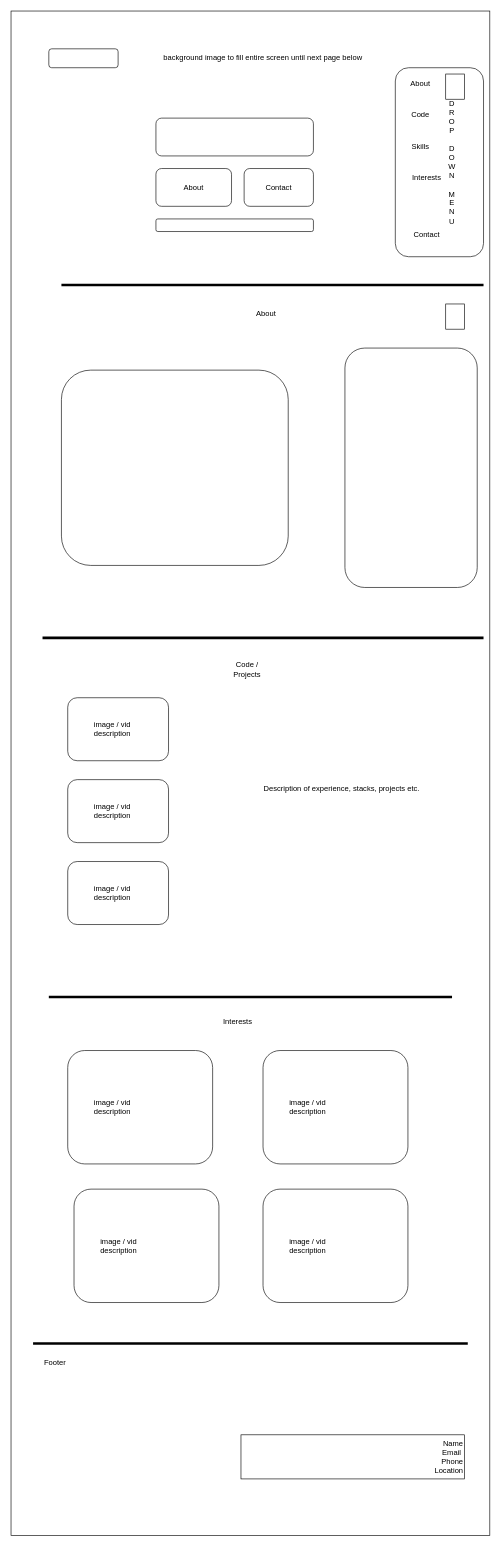
The diagram is 501 pixels wide and 1547 high, and some of its shapes have lost their labels. Each missing label, with the centre of its shape:
"`INFO 1 -INFO 2 - -INFO 3 -INFO 4" belongs at (174,467).
"github url" belongs at (234,225).
"Name" belongs at (234,136).
"Name / Logo" belongs at (83,58).
"Self Image" belongs at (410,467).
